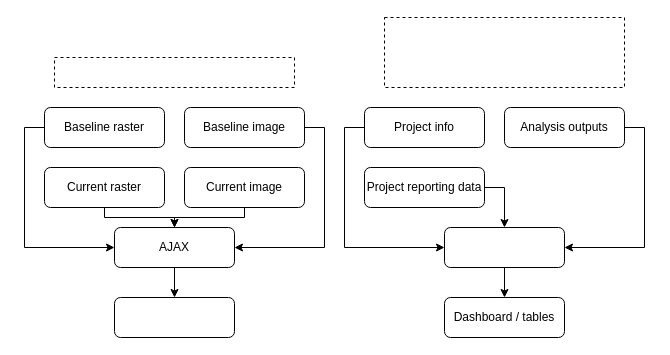
Some shapes in this 670 by 355 pixel diagram are drawn without their labels. The centre of each missing label's shape, as x and y in pixels:
"AJAX / REST request / Postman" goes at (x=504, y=247).
"AWS S3 s3://bucket/country/project-uuid/json/ OR AWS RedShift" goes at (x=504, y=52).
"AWS S3 s3://bucket/country/project-uuid/raster/" goes at (x=174, y=72).
"One or two webmaps" goes at (x=174, y=317).
